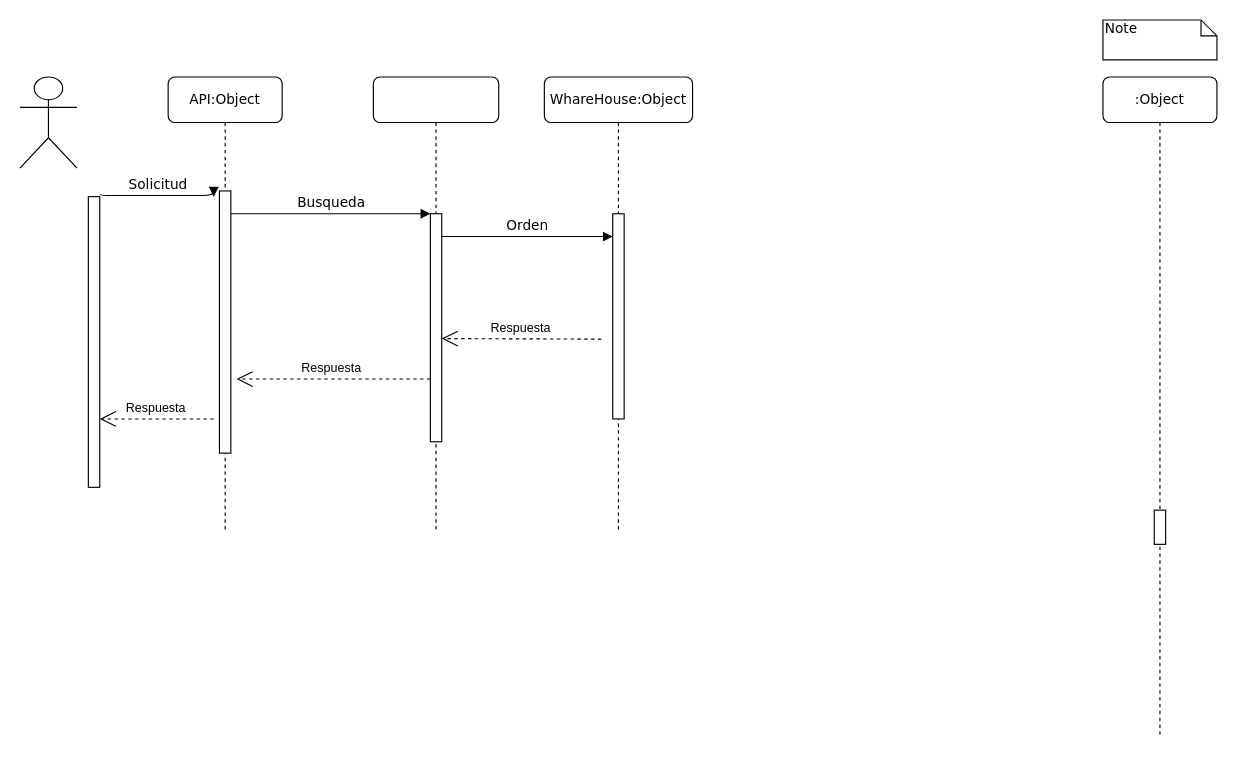
Some shapes in this 1237 by 758 pixel diagram are drawn without their labels. The shapes that lost their labels are listed below. From the top down, each one's box as (x1, y1, x2, y2) in pixels, then its label:
(19, 76, 77, 168): Usuario
(372, 76, 499, 533): DataBase:Object
